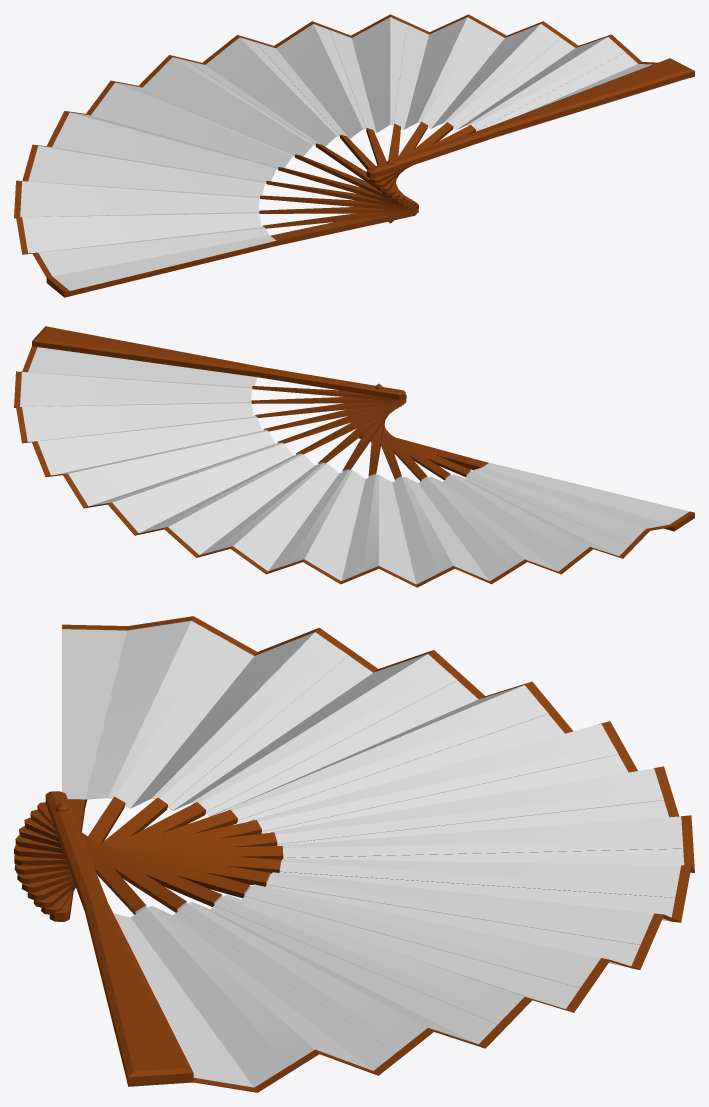
The model's file is fan.fbx.
The picture shows the model from 3 angles, top to bottom: view 1: azimuth 30°, elevation 25°; view 2: azimuth 150°, elevation 25°; view 3: azimuth 270°, elevation 25°; orthographic projection. The views are drawn at different scales.
Visible parts, largest first — view 1: shanmian, dagu_b, dagu_a; view 2: shanmian, dagu_b, dagu_a; view 3: shanmian, dagu_b.
Boxes of the visible parts, bbox=[...] form: shanmian: bbox=[14, 14, 694, 292]; dagu_b: bbox=[366, 58, 694, 178]; dagu_a: bbox=[46, 214, 416, 297]; shanmian: bbox=[14, 346, 694, 587]; dagu_b: bbox=[32, 326, 405, 399]; dagu_a: bbox=[359, 435, 694, 531]; shanmian: bbox=[14, 616, 694, 1092]; dagu_b: bbox=[45, 791, 193, 1085].
Bounding box in the file's own units: 399 × 38 × 215.
